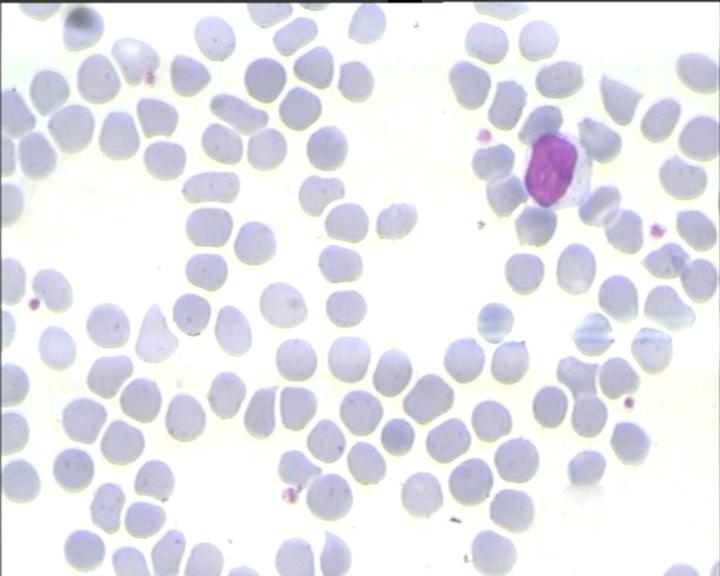lymp: (523, 129, 596, 210)
